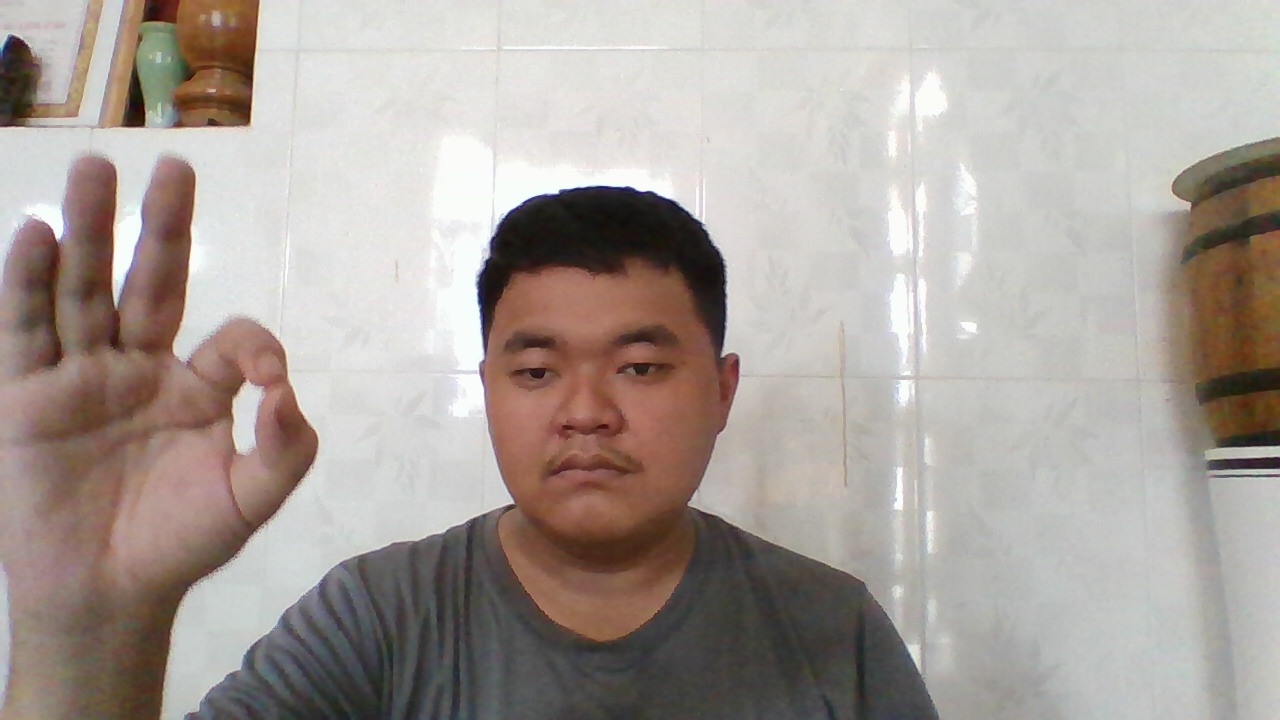T: (10, 154, 314, 624)
